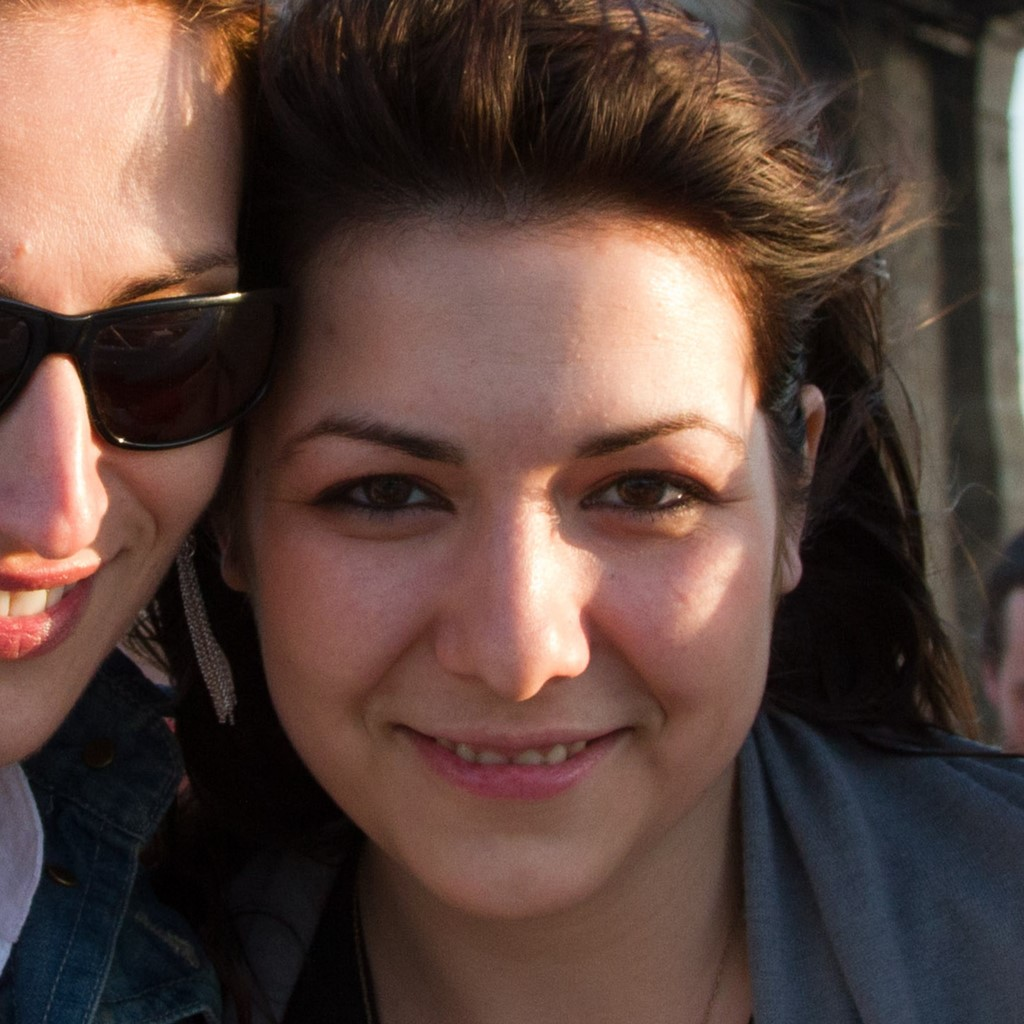sin_mascara: (251, 105, 828, 922)
